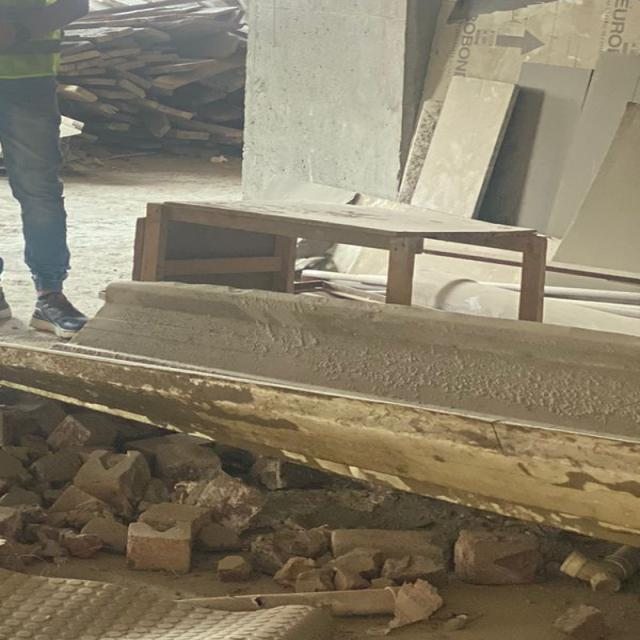Boot: (28, 290, 93, 343), (0, 281, 14, 330)
Vest: (0, 0, 61, 81)
